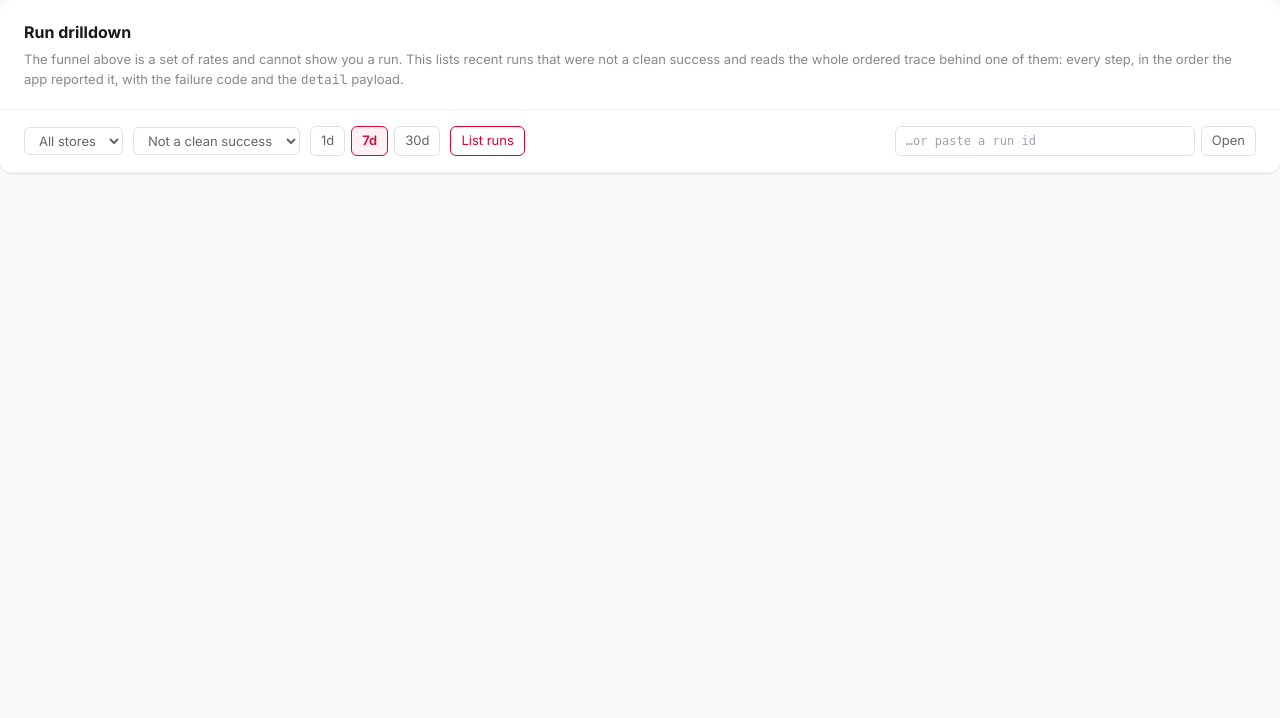
Test: AdminRunDrilldown › caps the rows it DRAWS, says the real total, and offers the rest
Click the button "List runs" at {"x": 488, "y": 141}, box [450,126,525,156]
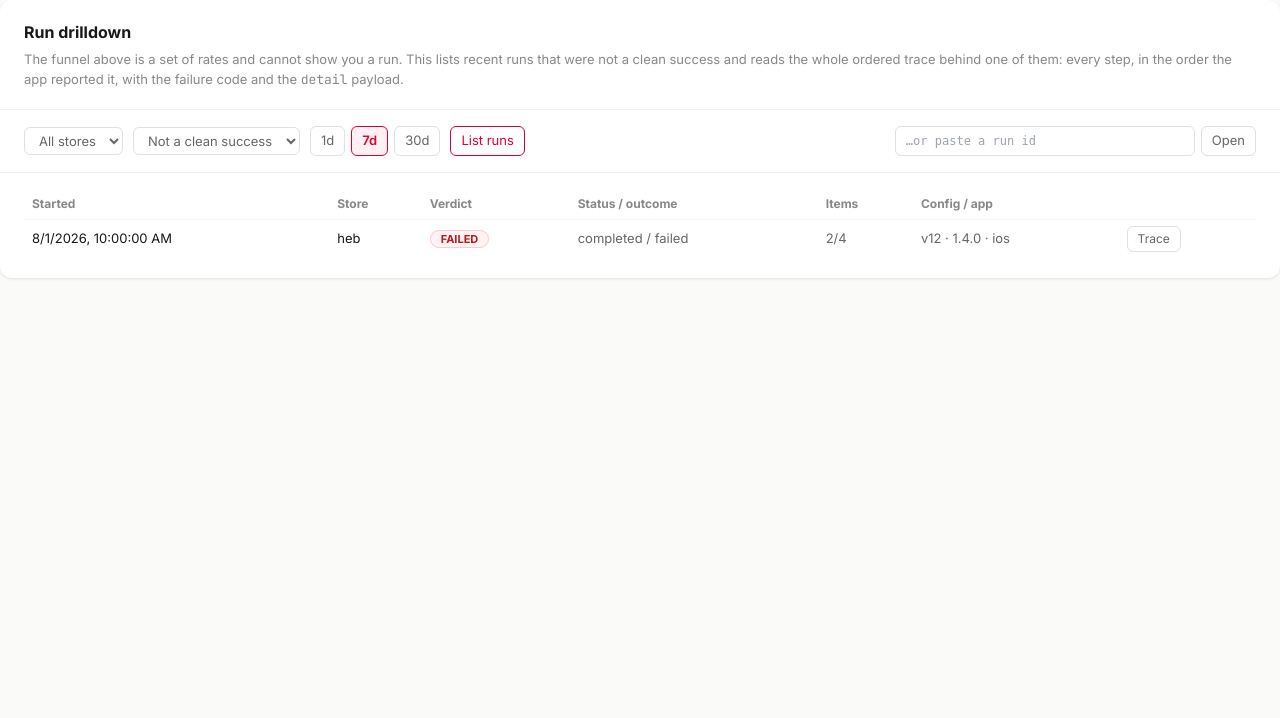
Result: the button "Trace" is shown
Click the button "Trace" at {"x": 1154, "y": 238}, box [1127,226,1181,252]
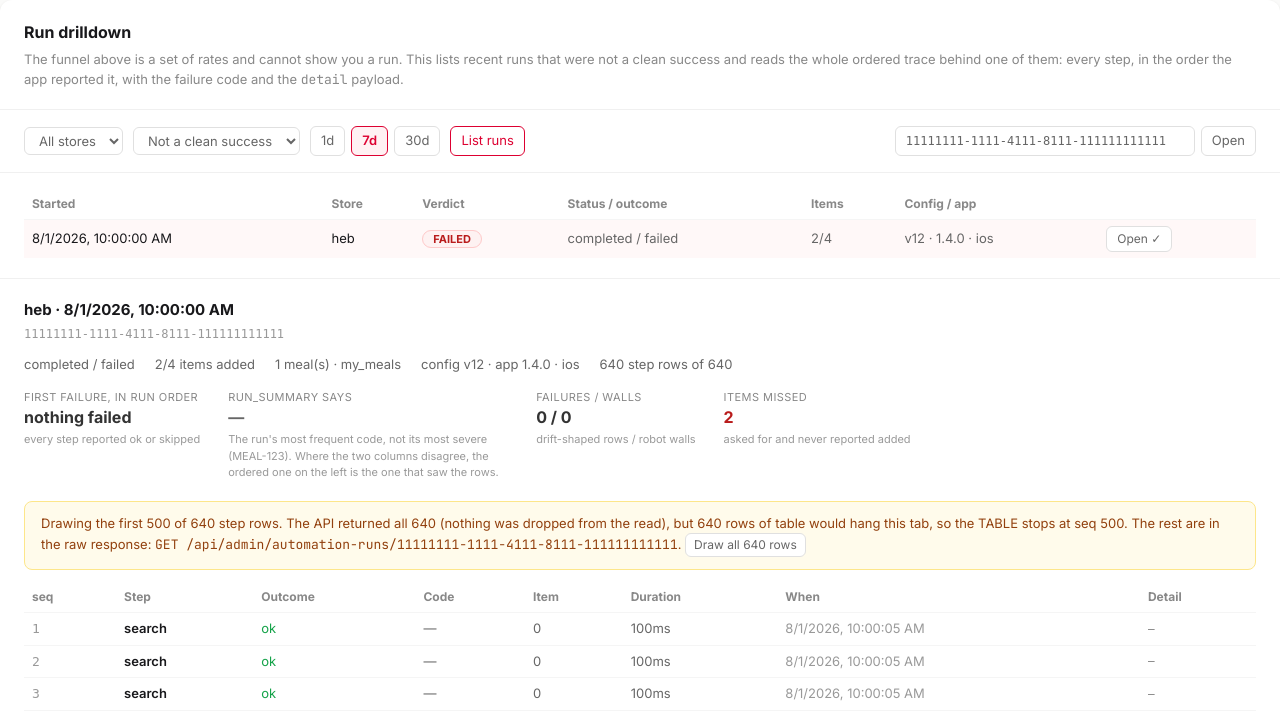
Result: the text "First failure, in run order" is shown at [24,388,200,405]
Result: the text "Drawing the first 500 of 640 step rows" is shown at [24,500,1256,570]
Result: the text "nothing was dropped from the read" is shown at [436,514,697,530]
Click the button "Draw all 640 rows" at {"x": 745, "y": 545}, box [685,533,806,557]
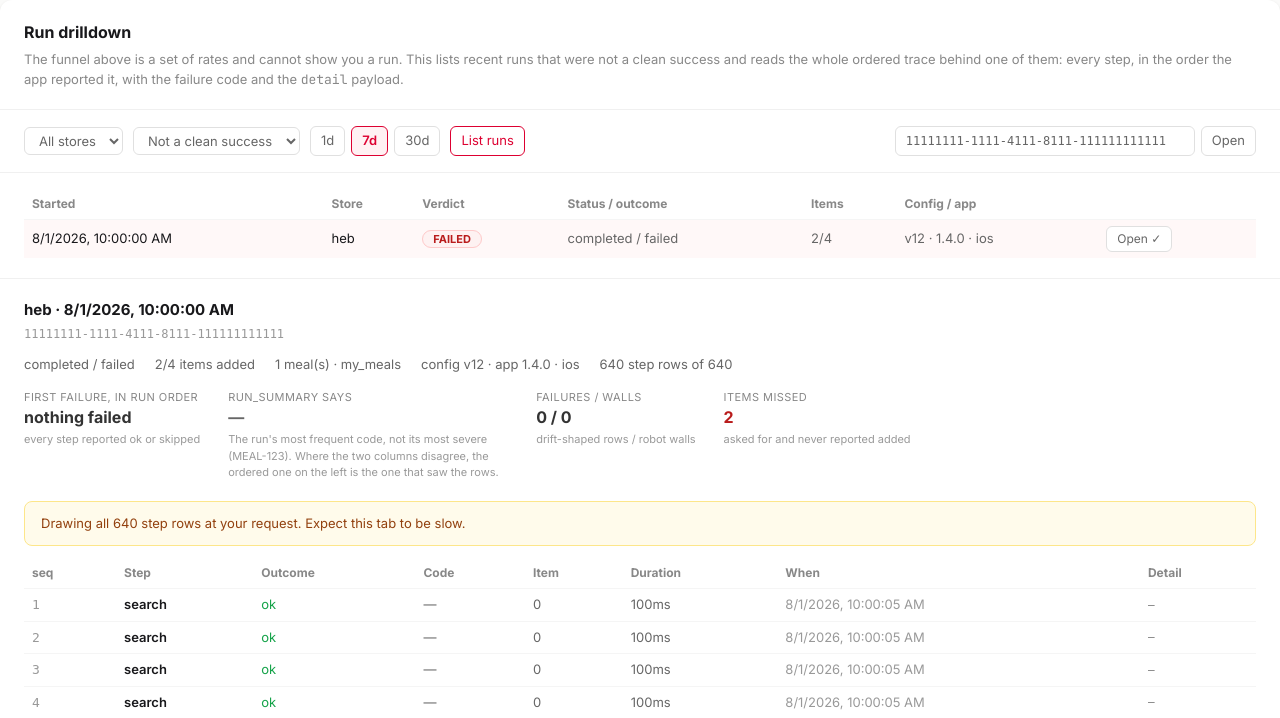
Result: the text "Drawing all 640 step rows at your request" is shown at [24,500,1256,546]
